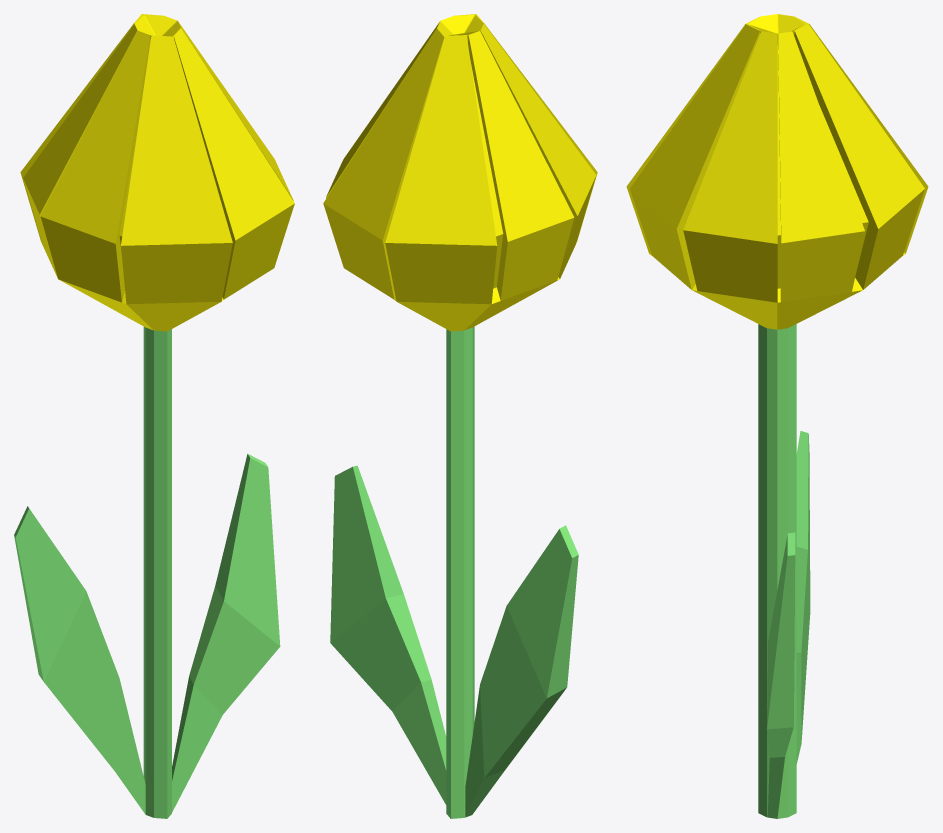
Rendered from Flor_004_LOD.fbx.
3 views of the same model, side by side, from view 1: azimuth 30°, elevation 25°; view 2: azimuth 150°, elevation 25°; view 3: azimuth 270°, elevation 25° (orthographic).
Visible parts, largest first — view 1: Flor_004_LOD0; view 2: Flor_004_LOD0; view 3: Flor_004_LOD0.
Part boxes in pixels (x1,y1,x2,y2): Flor_004_LOD0: (14, 14, 294, 818); Flor_004_LOD0: (323, 14, 597, 818); Flor_004_LOD0: (626, 14, 928, 818).
Size of what is drawn, in the model's own units: 71.65 by 213 by 74.04.
